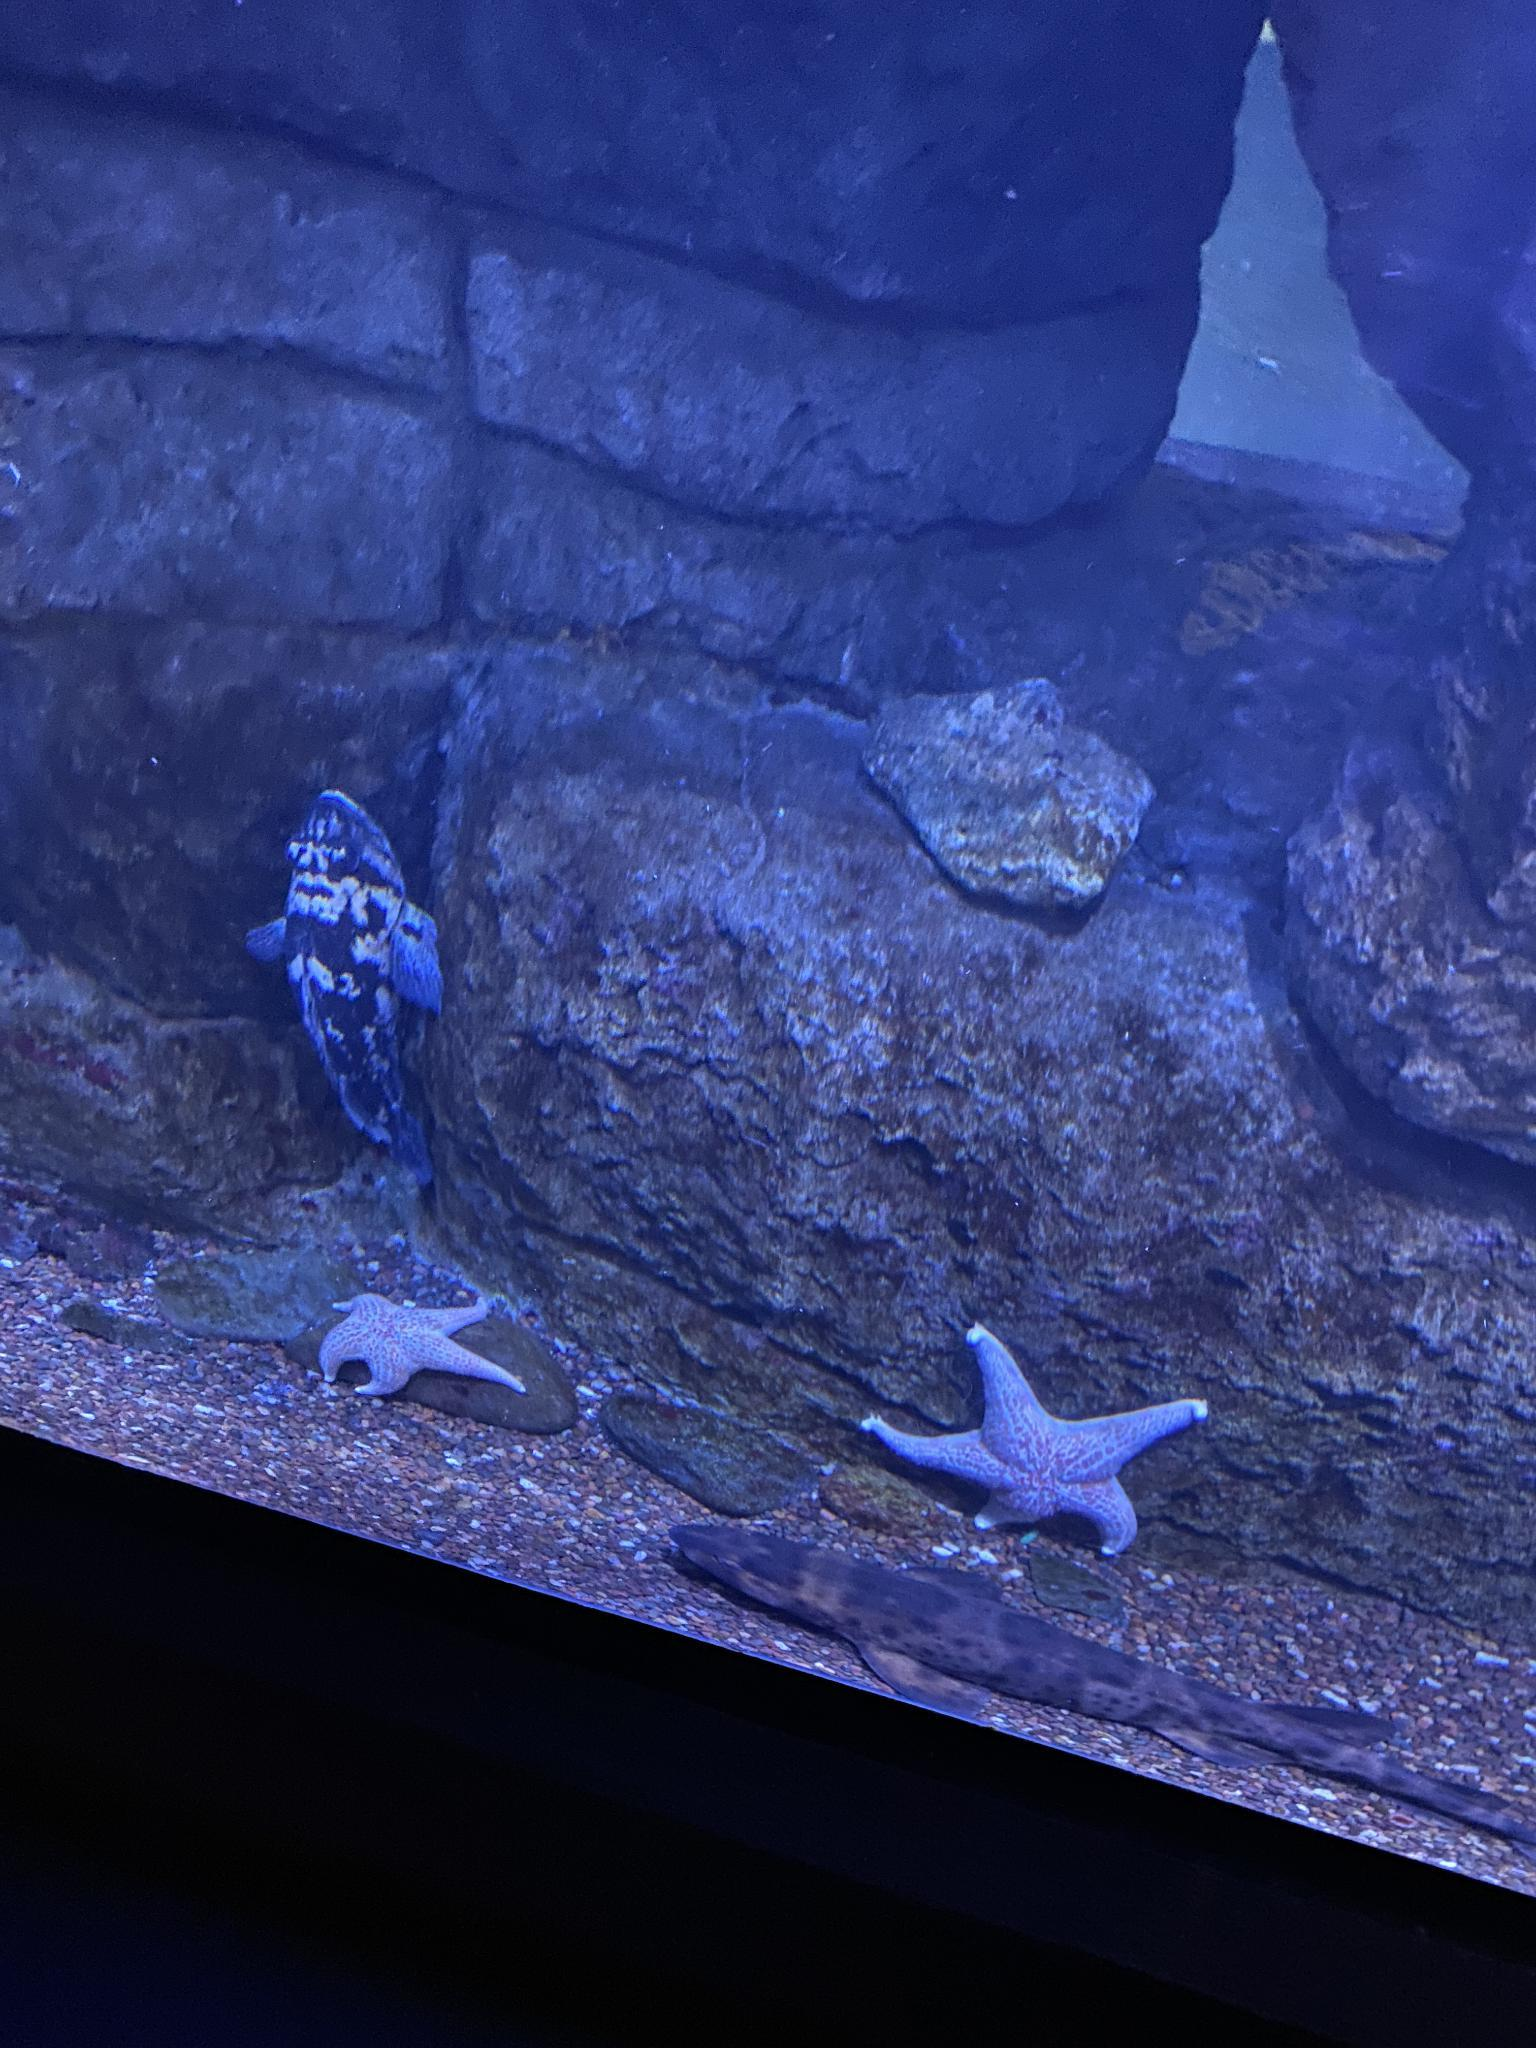fish: (252, 790, 440, 1153)
shark: (663, 1522, 1536, 1848)
starfish: (862, 1329, 1205, 1558), (323, 1293, 523, 1400)
